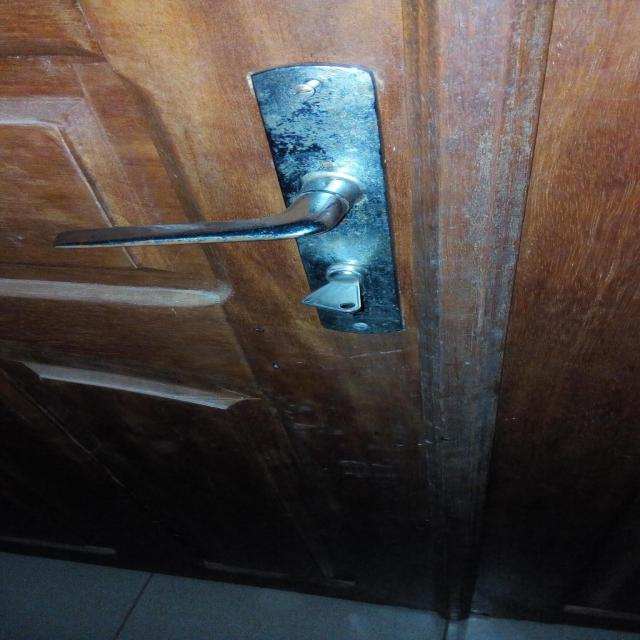Frontdoor keys: (262, 258, 401, 336)
